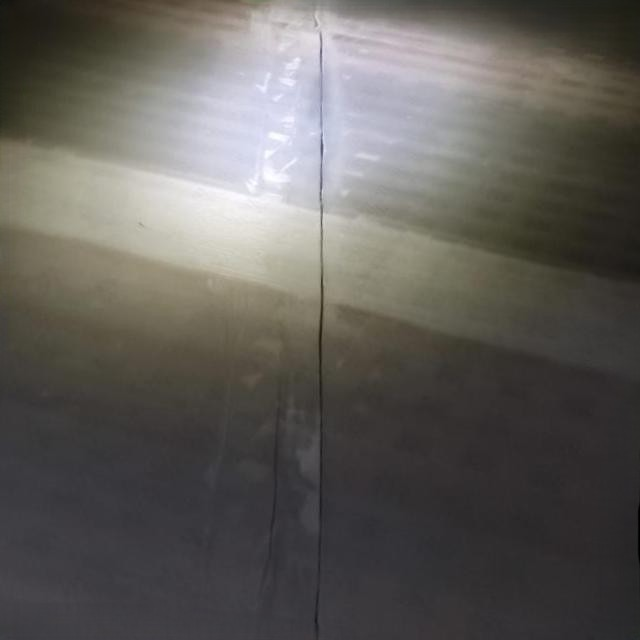Tear: (296, 0, 336, 640)
